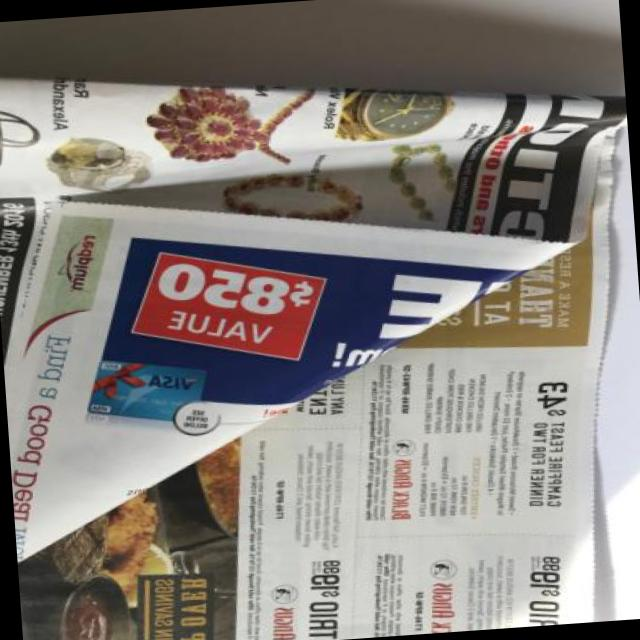paper: (0, 44, 598, 640)
